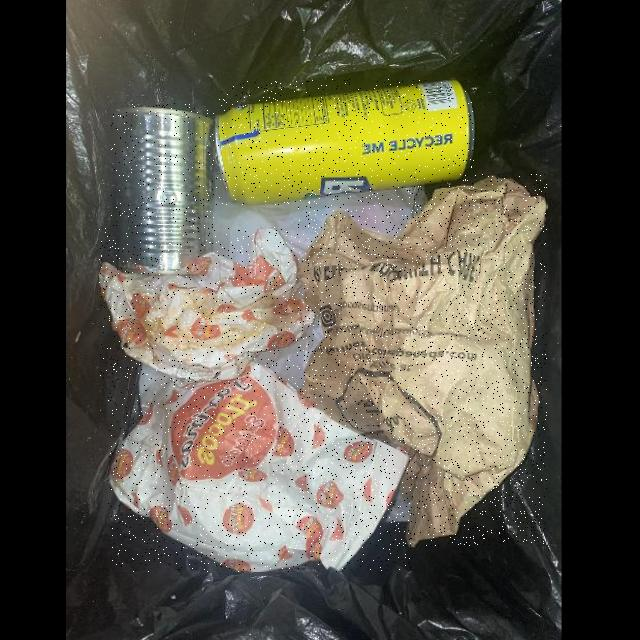metal: (217, 79, 474, 205), (112, 103, 214, 273)
paper: (298, 174, 547, 545), (109, 360, 410, 572), (100, 227, 316, 380)
